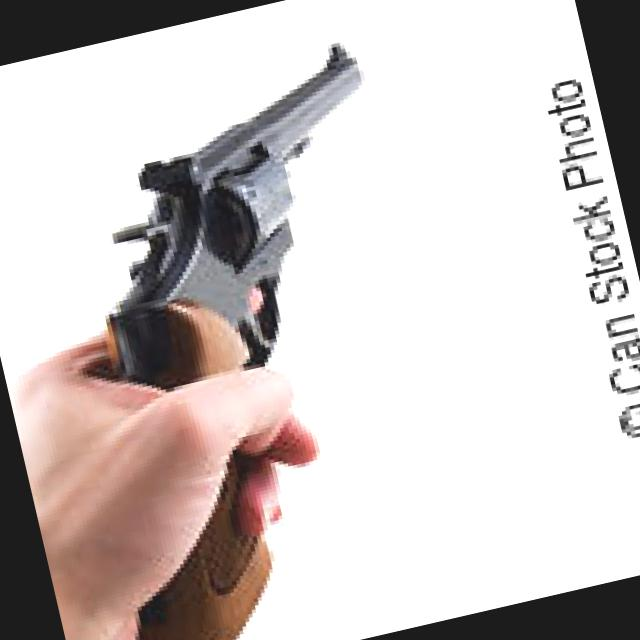handgun: (0, 28, 480, 639)
